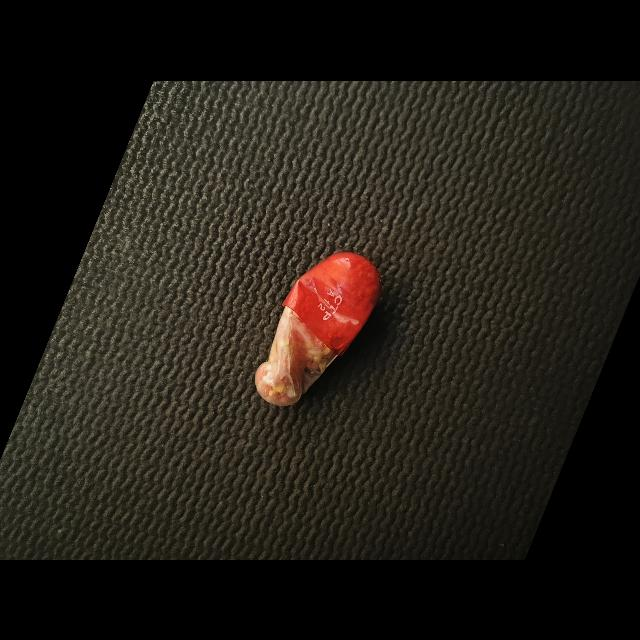Defective Capsule: (255, 251, 381, 406)
